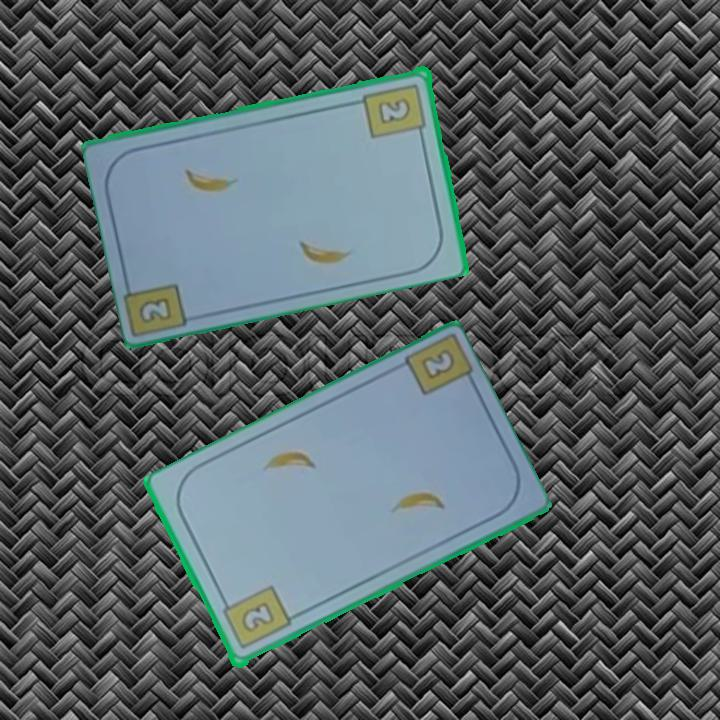2b: (217, 582, 294, 653), (360, 79, 430, 141), (417, 345, 458, 384), (135, 293, 176, 327)
